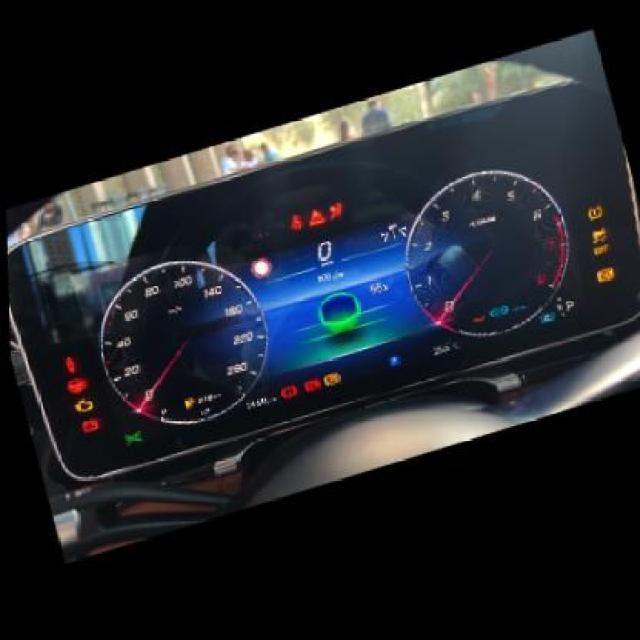Electronic Power Steering: (66, 376, 91, 394)
Seat Belt: (286, 216, 302, 238)
